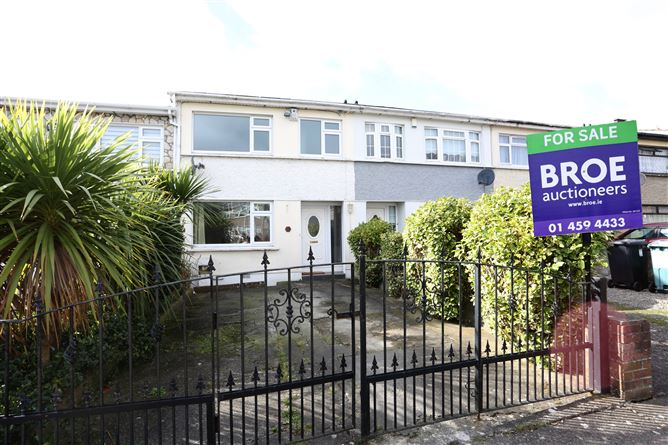property sign: (519, 114, 650, 245)
